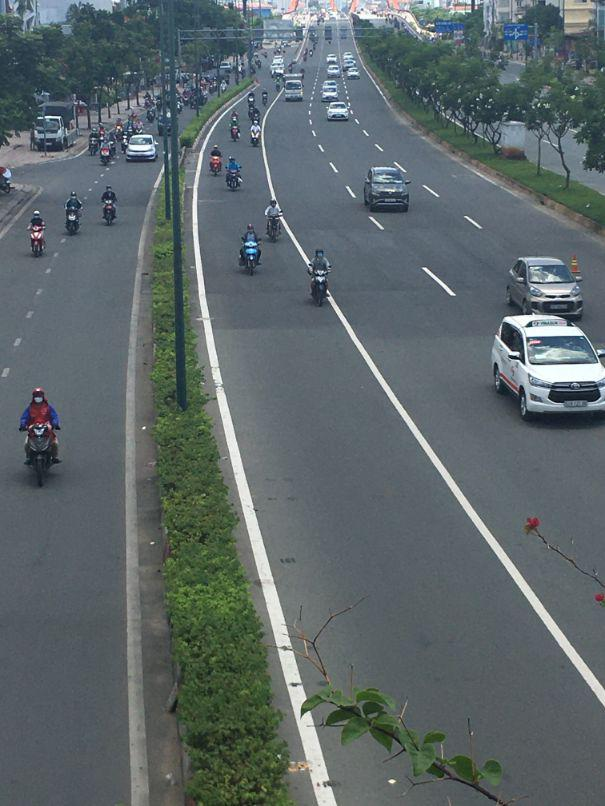car: (490, 312, 604, 420), (506, 255, 587, 321), (363, 166, 410, 215), (124, 136, 157, 163), (326, 103, 351, 123), (322, 81, 339, 100), (273, 58, 287, 77)
motorbike: (22, 426, 60, 489), (308, 250, 332, 307), (64, 194, 82, 235), (310, 269, 329, 306), (28, 220, 45, 258), (267, 205, 284, 240), (225, 159, 242, 189), (103, 200, 118, 227), (250, 123, 261, 144)
truck: (33, 96, 85, 153), (285, 78, 304, 101)
